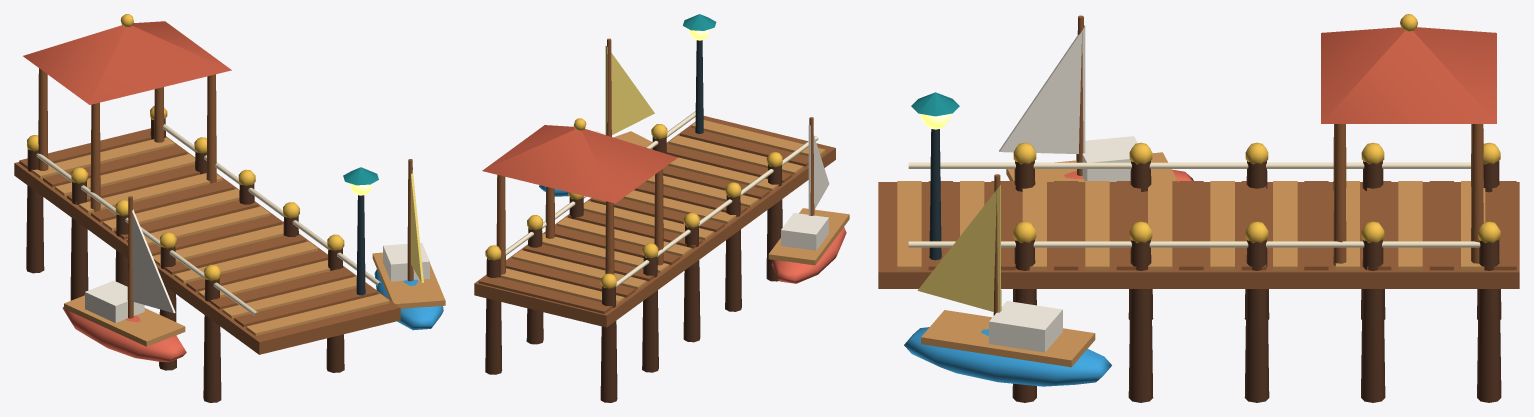
Rendered from lagoon-pier.glb.
3 views of the same model, side by side, from view 1: azimuth 30°, elevation 25°; view 2: azimuth 150°, elevation 25°; view 3: azimuth 270°, elevation 25° (orthographic). The views are drawn at different scales.
Parts seen in each view (by area): view 1: Mesh_wood (×3), Mesh_lightWood (×3), Mesh_terracotta, Mesh_darkWood, Mesh_warmWhite (×2), Mesh_gold, Mesh_cream, Mesh_coral, Mesh_skyBlue, Mesh_iron, Mesh_banana, Mesh_teal; view 2: Mesh_wood (×3), Mesh_lightWood (×2), Mesh_darkWood, Mesh_terracotta, Mesh_warmWhite, Mesh_banana, Mesh_gold, Mesh_cream, Mesh_coral, Mesh_iron, Mesh_teal; view 3: Mesh_wood (×2), Mesh_lightWood (×3), Mesh_darkWood, Mesh_terracotta, Mesh_warmWhite (×2), Mesh_cream, Mesh_banana, Mesh_skyBlue, Mesh_gold, Mesh_iron, Mesh_teal.
Part boxes in pixels (x1,y1,x2,y2): Mesh_wood (×3): [14, 68, 413, 354]; Mesh_lightWood (×3): [31, 137, 445, 346]; Mesh_terracotta: [23, 21, 231, 104]; Mesh_darkWood: [26, 118, 344, 402]; Mesh_warmWhite (×2): [85, 209, 429, 322]; Mesh_gold: [27, 14, 344, 281]; Mesh_cream: [36, 124, 380, 315]; Mesh_coral: [62, 307, 186, 362]; Mesh_skyBlue: [374, 269, 443, 330]; Mesh_iron: [356, 195, 365, 295]; Mesh_banana: [411, 170, 423, 282]; Mesh_teal: [343, 167, 378, 185]; Mesh_wood (×3): [474, 38, 835, 327]; Mesh_lightWood (×2): [500, 120, 849, 305]; Mesh_darkWood: [485, 136, 782, 402]; Mesh_terracotta: [482, 125, 677, 203]; Mesh_warmWhite: [781, 125, 829, 250]; Mesh_banana: [605, 46, 654, 135]; Mesh_gold: [485, 118, 782, 288]; Mesh_cream: [505, 111, 818, 287]; Mesh_coral: [771, 227, 846, 283]; Mesh_iron: [695, 40, 703, 133]; Mesh_teal: [683, 14, 716, 30]; Mesh_wood (×2): [878, 15, 1519, 288]; Mesh_lightWood (×3): [897, 152, 1485, 367]; Mesh_darkWood: [1012, 161, 1501, 402]; Mesh_terracotta: [1321, 27, 1496, 123]; Mesh_warmWhite (×2): [989, 25, 1137, 352]; Mesh_cream: [908, 162, 1480, 247]; Mesh_banana: [917, 185, 1000, 312]; Mesh_skyBlue: [904, 327, 1111, 386]; Mesh_gold: [1013, 14, 1500, 243]; Mesh_iron: [929, 129, 941, 260]; Mesh_teal: [911, 92, 959, 116].
Size of the model in its own units: 6.45 by 4.97 by 8.4.
